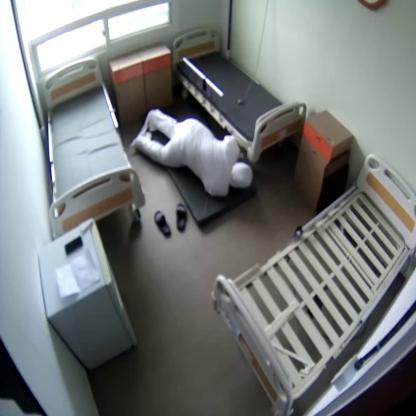Person: (134, 110, 252, 197)
